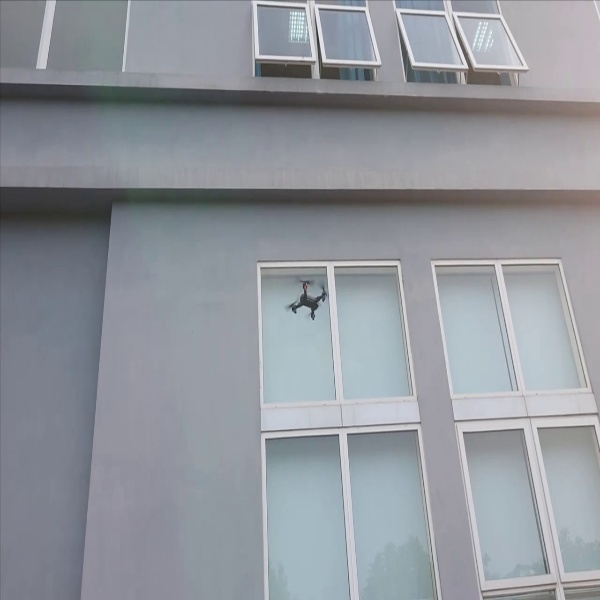drone: (280, 272, 329, 321)
